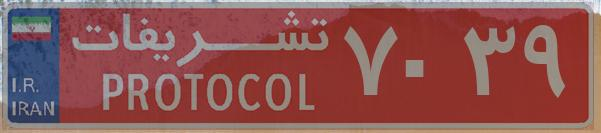0: (400, 20, 460, 115)
3: (460, 20, 520, 115)
7: (340, 20, 400, 115)
9: (520, 20, 580, 115)
تشریفات: (60, 8, 340, 125)
